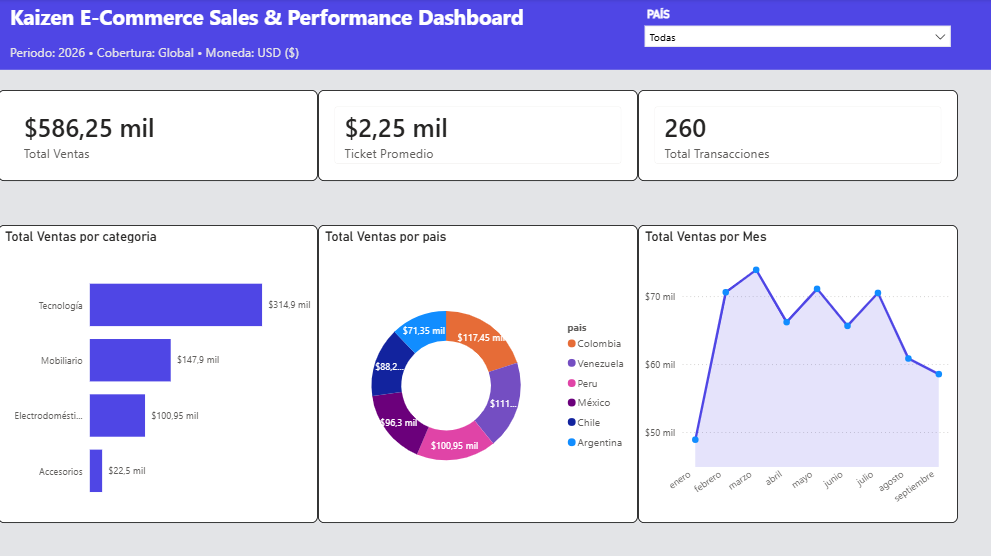

The dashboard page shown, as its layout file describes it:
{"tool":"powerbi","page":{"name":"Página 1","canvas":[1280,720],"ordinal":0},"visuals":[{"type":"cardVisual","fields":{"Data":["ventas.Total Ventas"]},"box":[0,116.9,411.2,116.9],"z":0},{"type":"cardVisual","fields":{"Data":["ventas.Total Transacciones"]},"box":[822.5,116.9,411.2,116.9],"z":1000},{"type":"cardVisual","fields":{"Data":["ventas.Ticket Promedio"]},"box":[411.2,116.9,411.2,116.9],"z":2000},{"type":"clusteredBarChart","fields":{"Y":["ventas.Total Ventas"],"Category":["productos.categoria"]},"box":[0,290.4,411.2,383],"z":3000},{"type":"donutChart","fields":{"Category":["clientes.pais"],"Y":["ventas.Total Ventas"]},"box":[411.2,290.4,411.2,383],"z":4000},{"type":"lineChart","fields":{"Category":["ventas.fecha_venta.Variación.Jerarquía de fechas.Año","ventas.fecha_venta.Variación.Jerarquía de fechas.Trimestre","ventas.fecha_venta.Variación.Jerarquía de fechas.Mes","ventas.fecha_venta.Variación.Jerarquía de fechas.Día"],"Y":["ventas.Total Ventas"]},"box":[822.5,290.4,411.2,383],"z":5000},{"type":"shape","box":[0,0,1280,91.2],"z":7000},{"type":"textbox","box":[10.3,0,696.5,91.2],"z":8000},{"type":"slicer","fields":{"Values":["clientes.pais"]},"box":[867.5,12.9,412.5,78.4],"z":8500}]}

Visuals, with their boxes in screenshot pixels (x1, y1, x2, y2), scaled from the page's 1280x720 canvas onto the 991x556 screenshot:
cardVisual - ventas.Total Ventas: Rect(0, 90, 318, 181)
cardVisual - ventas.Total Transacciones: Rect(637, 90, 955, 181)
cardVisual - ventas.Ticket Promedio: Rect(318, 90, 637, 181)
clusteredBarChart - ventas.Total Ventas x productos.categoria: Rect(0, 224, 318, 520)
donutChart - clientes.pais x ventas.Total Ventas: Rect(318, 224, 637, 520)
lineChart - ventas.fecha_venta.Variación.Jerarquía de fechas.Año x ventas.fecha_venta.Variación.Jerarquía de fechas.Trimestre: Rect(637, 224, 955, 520)
shape: Rect(0, 0, 990, 70)
textbox: Rect(8, 0, 547, 70)
slicer - clientes.pais: Rect(672, 10, 990, 71)
